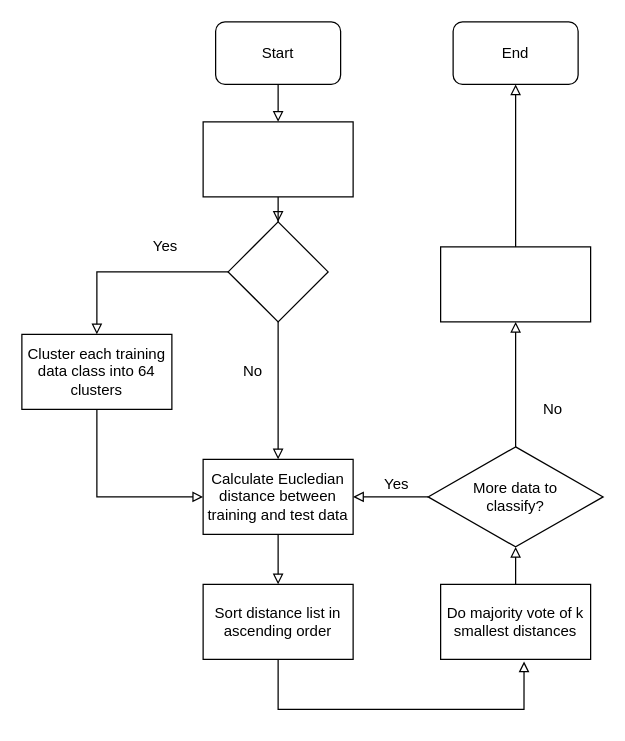
Image size: 625x741. Some labels were removed from this diagram. The box of each missing label's shape, as (x1, y1, x2, y2) in pixels:
Cluster?: (227, 221, 328, 322)
Load training and test data: (202, 121, 353, 197)
Print confusion matrix and calculate ER: (439, 246, 591, 322)
